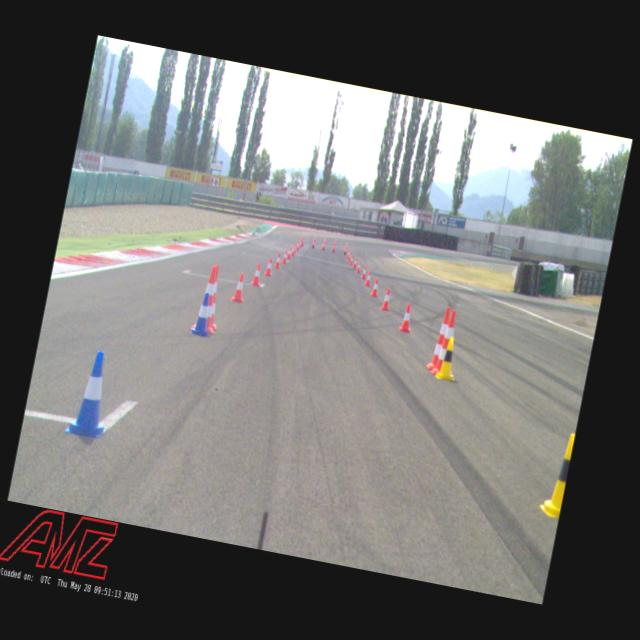blue_cone: (64, 348, 121, 440), (190, 291, 218, 338)
large_orange_cone: (192, 265, 226, 335), (430, 308, 464, 378), (202, 264, 228, 330), (426, 306, 452, 372), (331, 239, 338, 253), (311, 235, 317, 249), (342, 242, 348, 256), (321, 238, 327, 250), (300, 234, 306, 246)
orange_cone: (230, 272, 248, 304), (398, 303, 416, 334), (379, 287, 394, 313), (250, 262, 264, 286), (369, 277, 382, 298), (264, 258, 274, 278), (364, 270, 374, 288), (274, 252, 282, 270), (281, 250, 289, 264), (361, 266, 368, 280), (355, 261, 362, 274), (286, 247, 292, 260), (352, 258, 358, 270), (290, 245, 296, 256), (298, 240, 304, 249), (349, 255, 354, 265), (348, 252, 352, 262), (346, 250, 351, 258), (294, 244, 298, 254), (296, 241, 300, 251)
yellow_cone: (538, 431, 575, 518), (434, 336, 462, 382)
